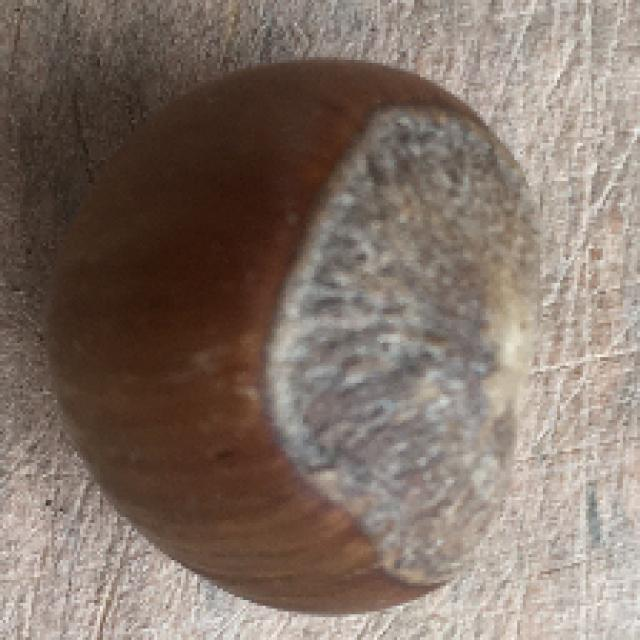DamagedHazelnut: (52, 58, 539, 614)
